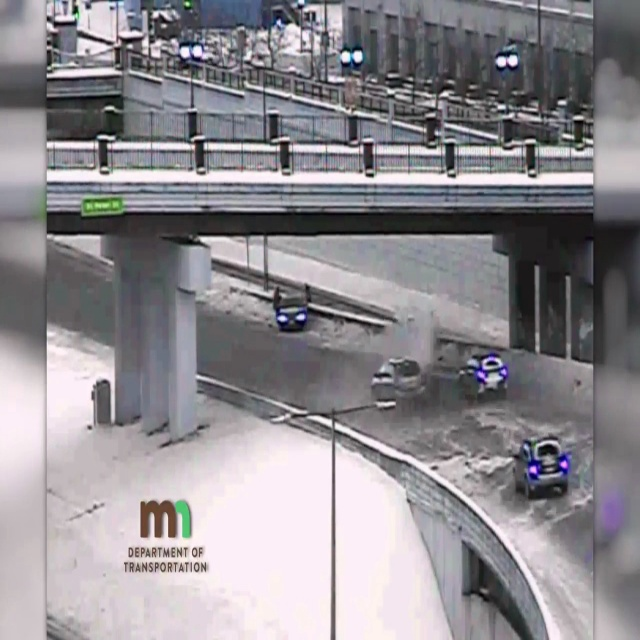acc: (270, 286, 429, 409)
